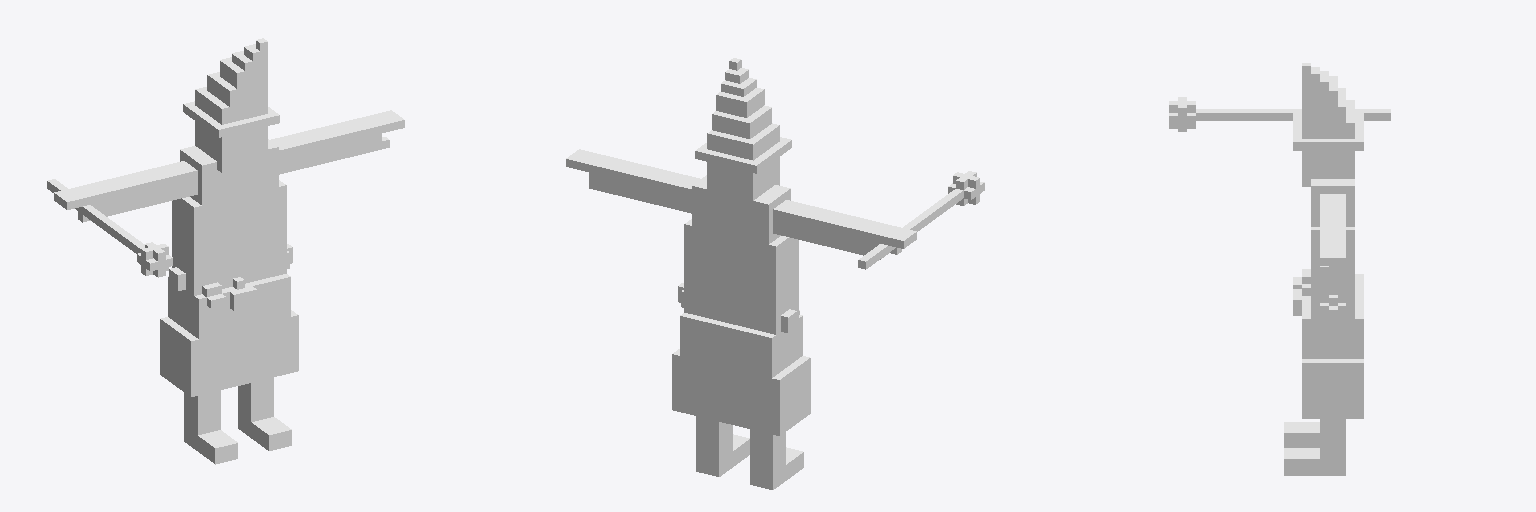
Rendered from char-wizard.obj.
3 renders of one model, left to right at view 1: azimuth 30°, elevation 25°; view 2: azimuth 150°, elevation 25°; view 3: azimuth 270°, elevation 25°, orthographic.
Parts seen in each view (by area): view 1: char-wizard; view 2: char-wizard; view 3: char-wizard.
Part boxes in pixels (x1,y1,x2,y2): char-wizard: (47,38,404,464); char-wizard: (566,58,984,489); char-wizard: (1169,63,1390,475).
Size of the model in its own units: 44 by 50 by 25.